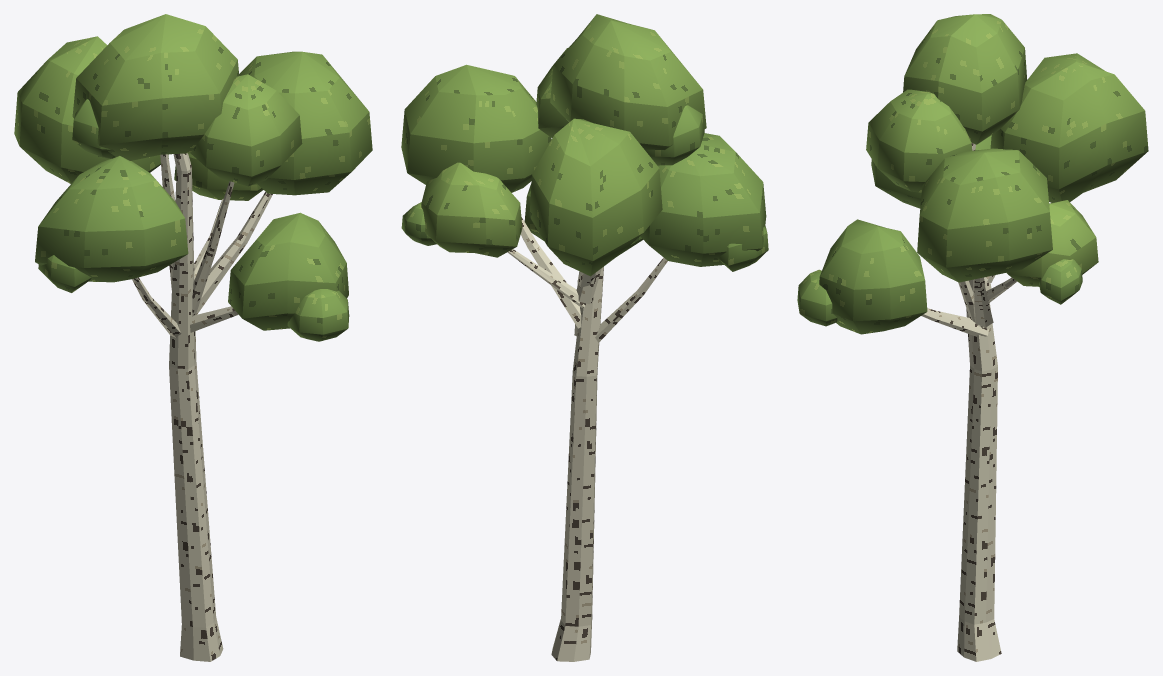
File: t_tree_birch.glb
3 views of the same model, side by side, from view 1: azimuth 30°, elevation 25°; view 2: azimuth 150°, elevation 25°; view 3: azimuth 270°, elevation 25° (orthographic). The views are drawn at different scales.
Parts seen in each view (by area): view 1: t_tree_birch_mesh; view 2: t_tree_birch_mesh; view 3: t_tree_birch_mesh.
Part boxes in pixels (box(x1,y1,x2,y2)): t_tree_birch_mesh: box(14, 14, 372, 661); t_tree_birch_mesh: box(401, 14, 768, 661); t_tree_birch_mesh: box(797, 14, 1148, 661).
Bounding box in the file's own units: 1.9 × 3.5 × 1.79.
Materials: 1 (1 with a texture image).
